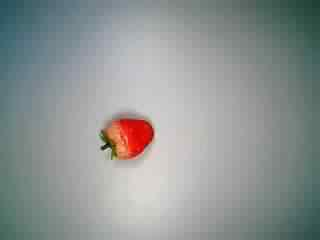strawberry: (87, 104, 160, 171)
